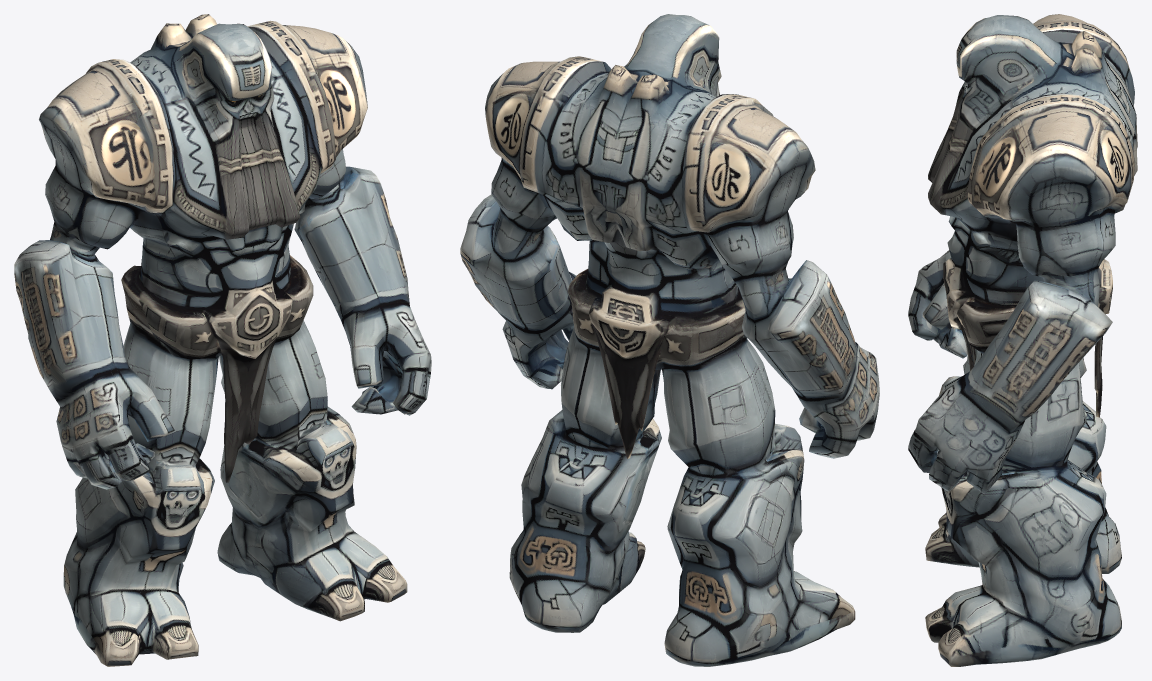
File: giant-soldier.glb
The picture shows the model from 3 angles, left to right: view 1: azimuth 30°, elevation 25°; view 2: azimuth 150°, elevation 25°; view 3: azimuth 270°, elevation 25°; orthographic projection.
Size of the model in its own units: 1.21 by 1.91 by 0.6888.
Materials: 1 (1 with a texture image).
